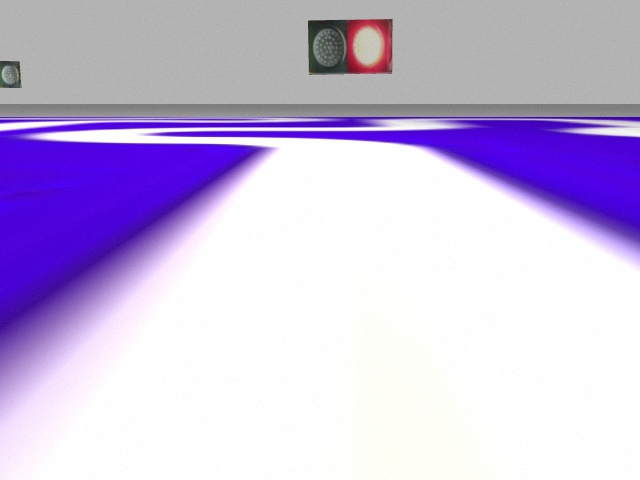red: (347, 18, 393, 74)
